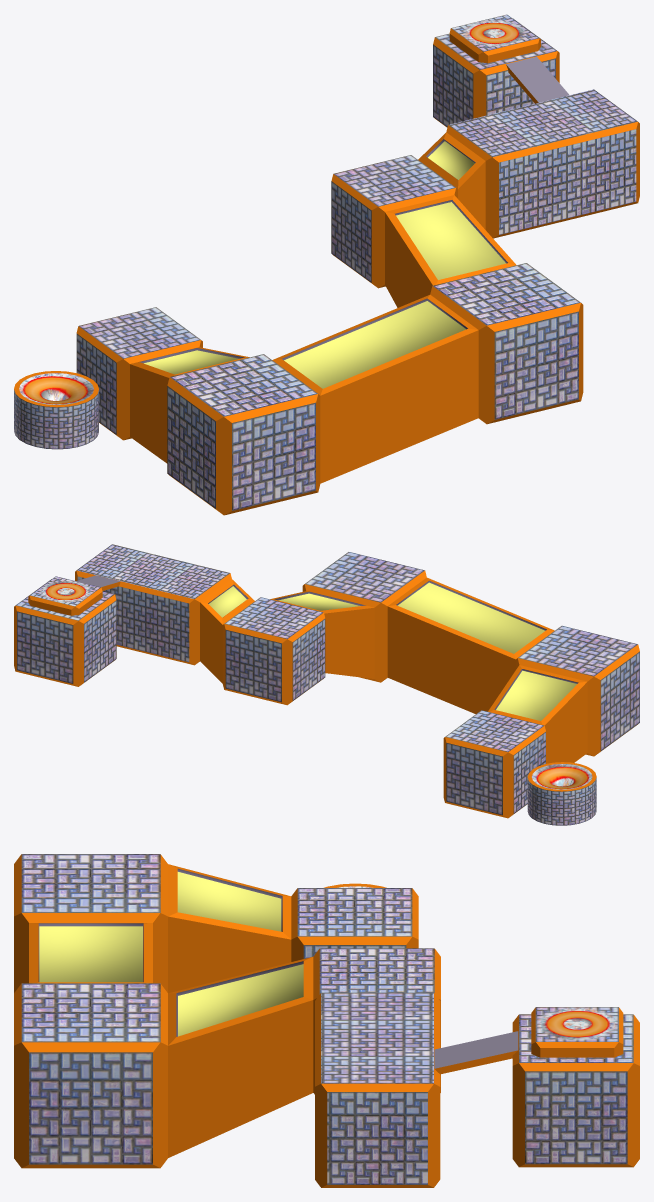
Rendered from Level08.fbx.
3 renders of one model, top to bottom at view 1: azimuth 30°, elevation 25°; view 2: azimuth 150°, elevation 25°; view 3: azimuth 270°, elevation 25°, orthographic. The views are drawn at different scales.
Parts seen in each view (by area): view 1: Level08; view 2: Level08; view 3: Level08.
Boxes of the visible parts, x1,y1,x2,y2 form: Level08: (14,14,639,515); Level08: (14,544,639,825); Level08: (14,854,639,1187).
Size of the model in its own units: 2345 by 771 by 1634.
Materials: 10 (5 with a texture image).
